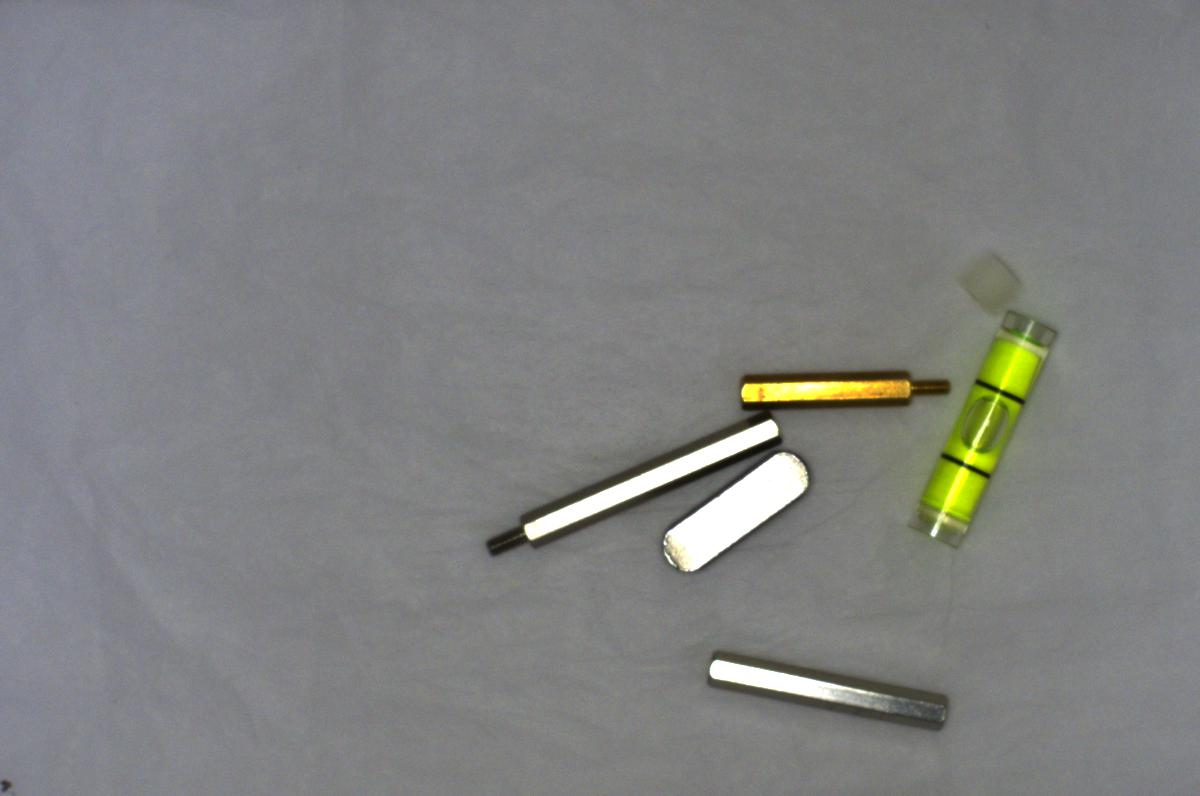Double hexagonal column: (701, 642, 962, 735)
Hexagon pillar: (734, 353, 961, 419)
Hexagonal steel column: (479, 404, 784, 560)
Horizontal bubble: (906, 309, 1071, 553)
Keybar: (658, 437, 814, 574)
Plastic cushion pillar: (950, 244, 1033, 317)
